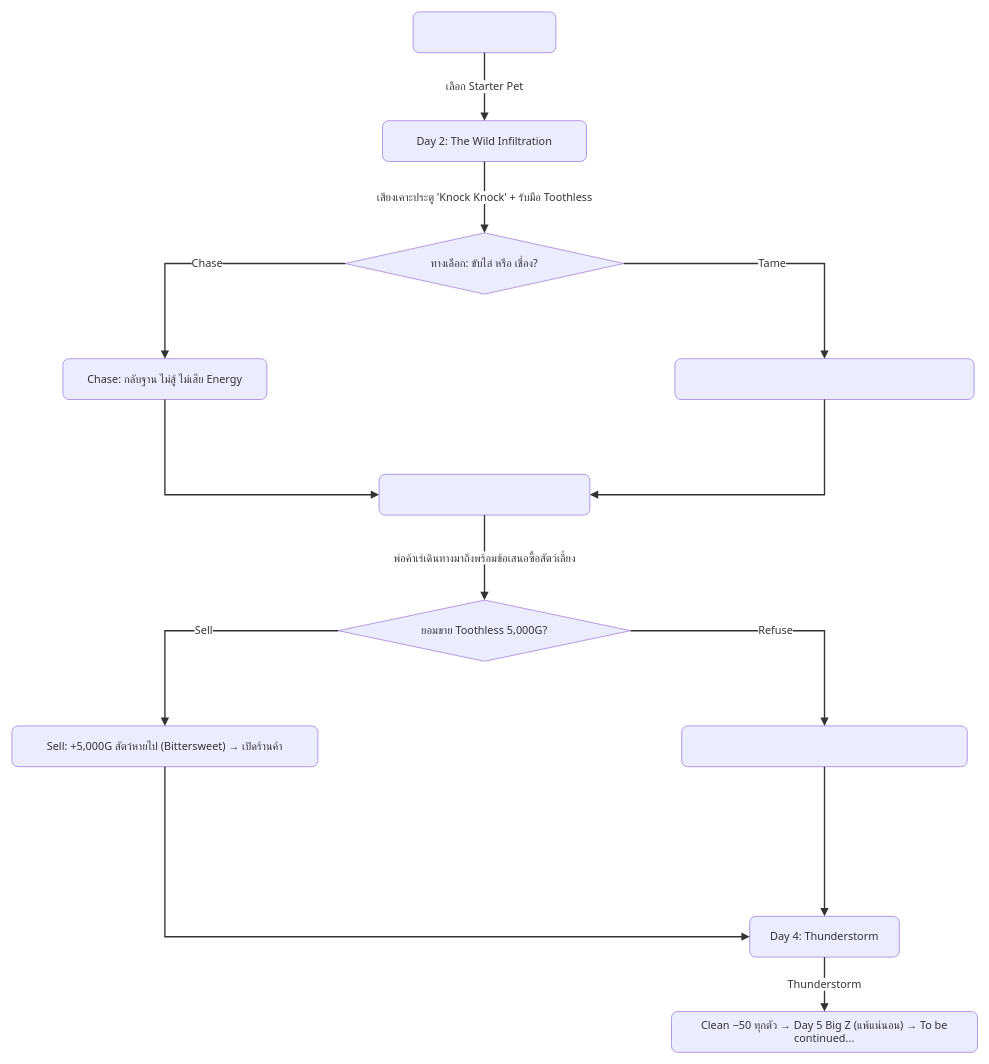
The diagram is 989 pixels wide and 1064 high, and some of its shapes have lost their labels. Here are the shapes that lost their labels. From the top down, the centre of each, then its label:
At (484,32): "Day 1: The Arrival".
At (824,379): "Tame: เลือกสัตว์ → Fight → ชนะ = ได้ Toothless +200 coin".
At (484,494): "Day 3: The Traveling Merchant".
At (824,746): "Refuse: เปิดร้านค้าทันที (ไม่มี Merchant Boss Fight ใน prototype)".
